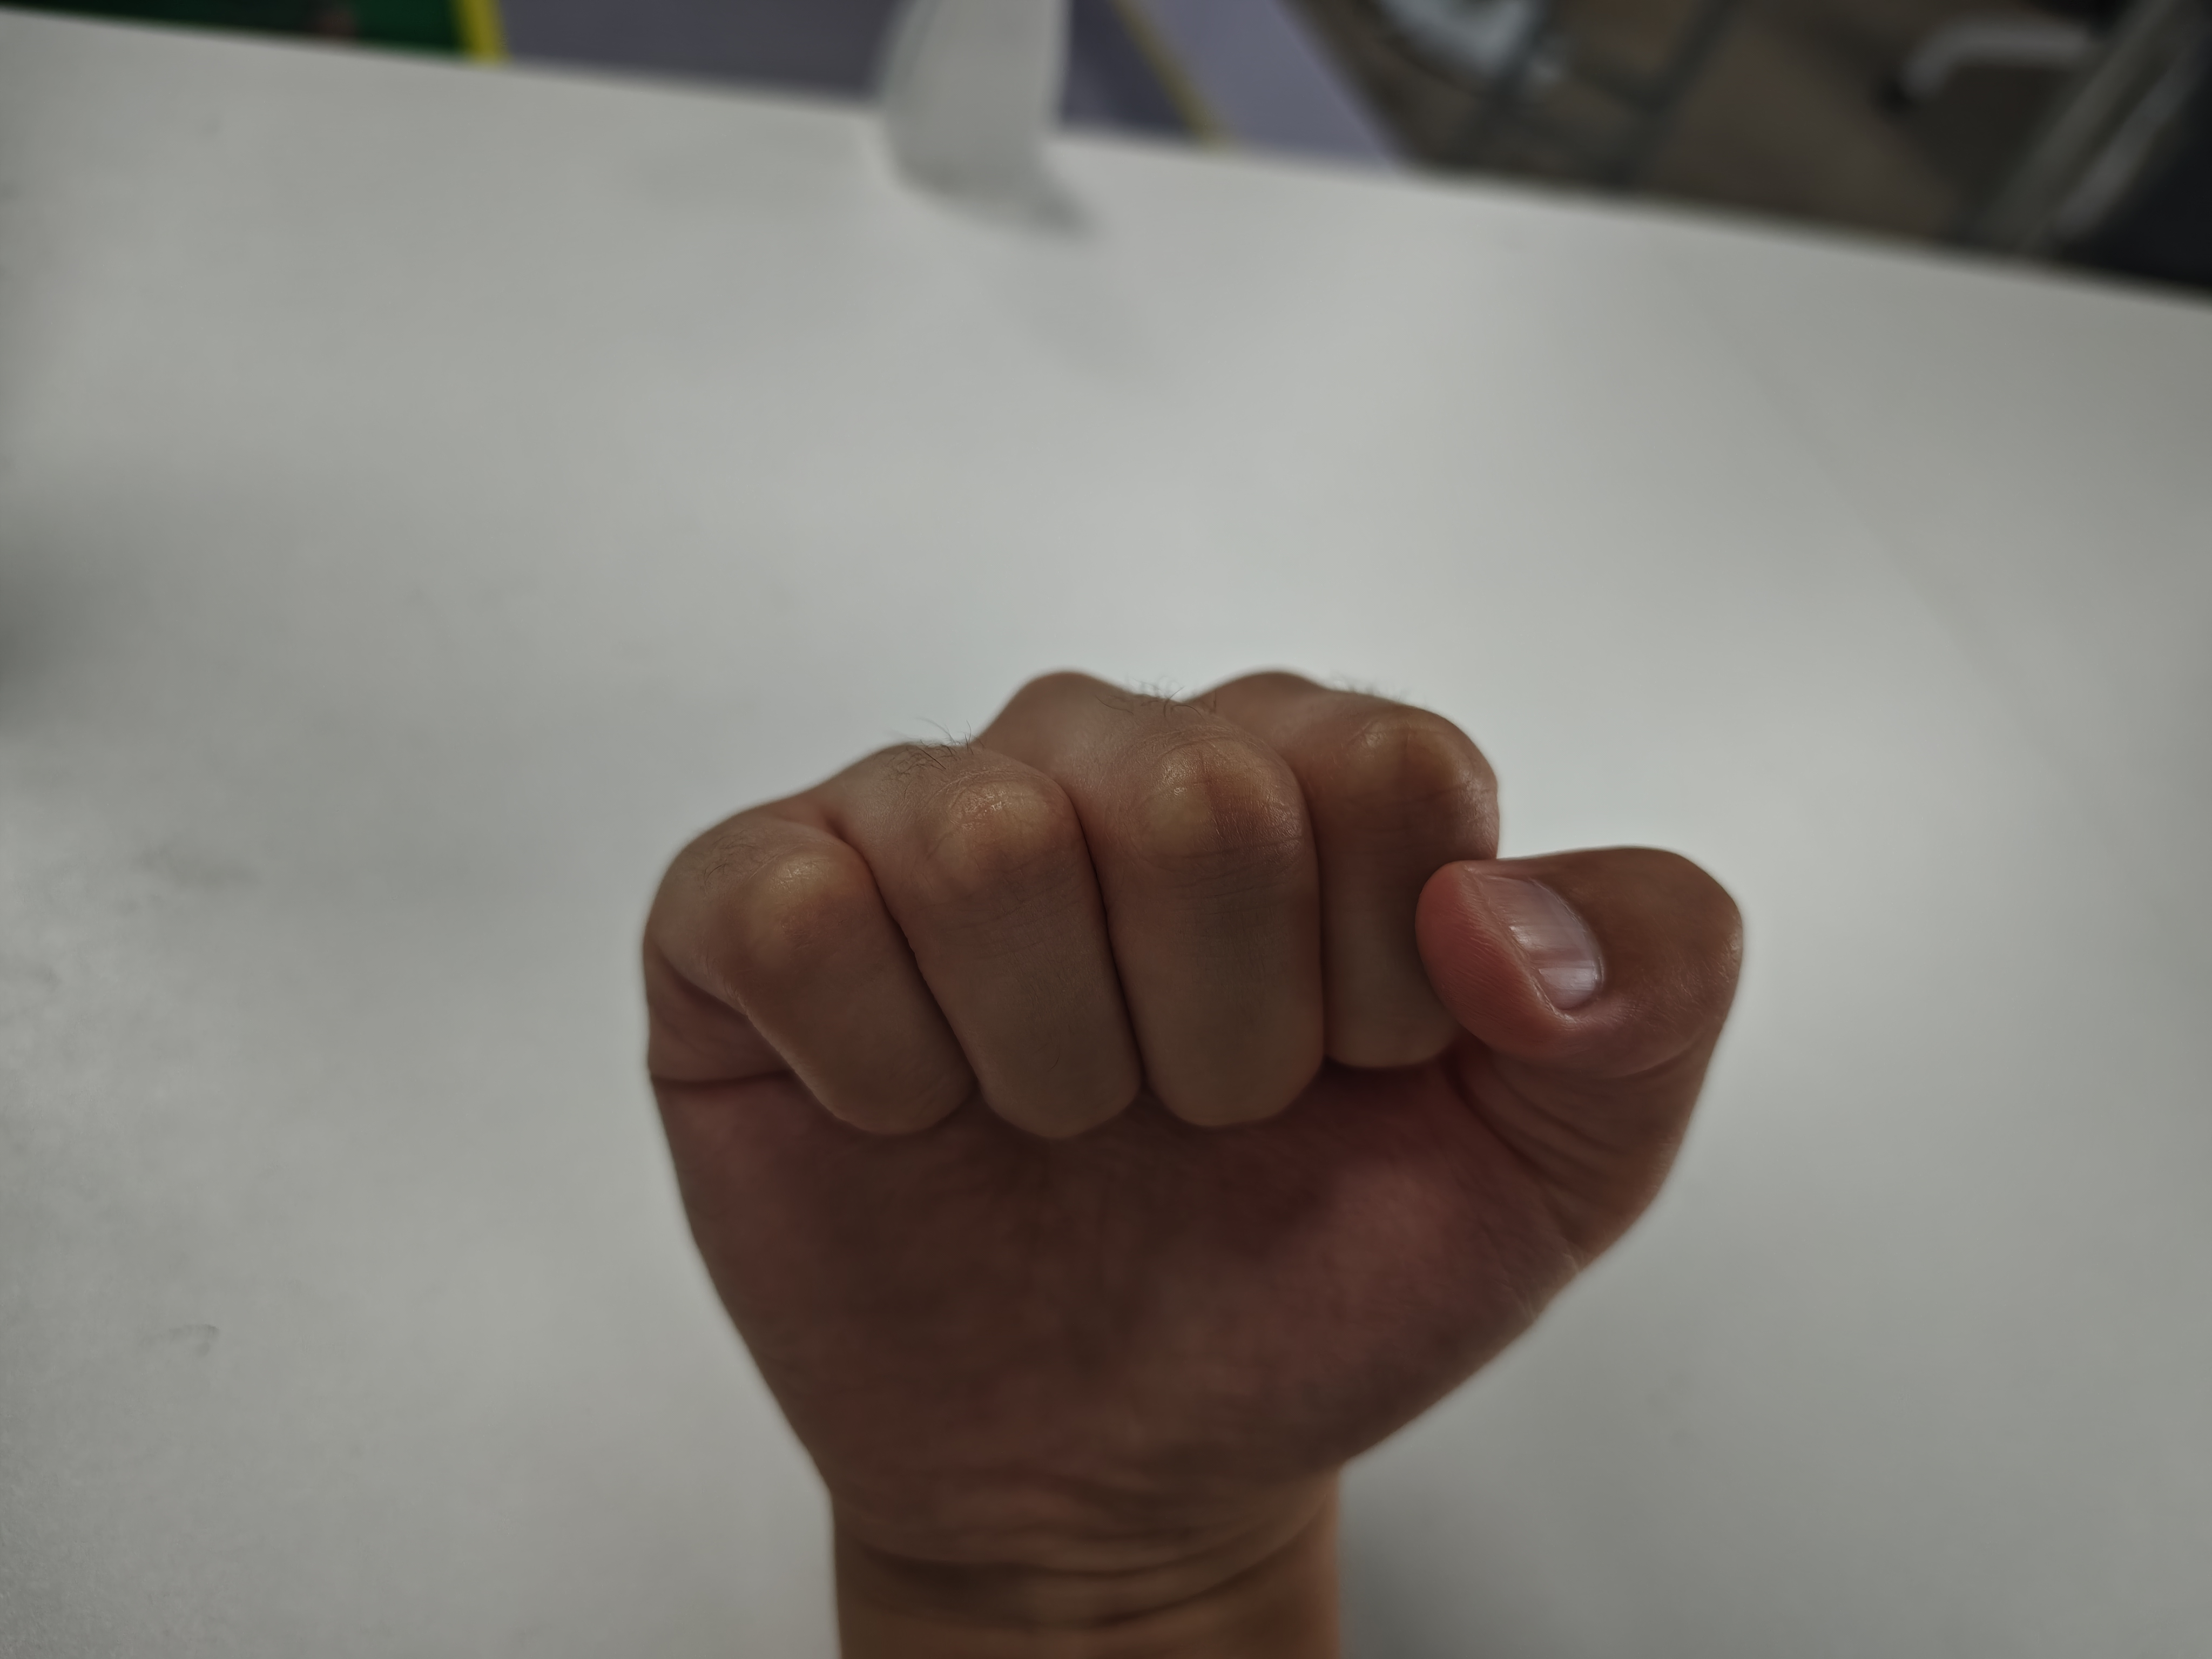mb: (622, 662, 1754, 1516)
